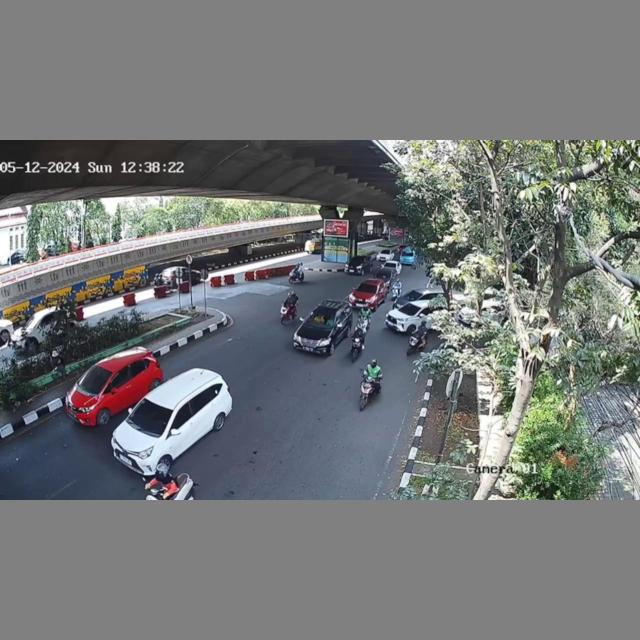windshield: (129, 400, 174, 436), (80, 366, 112, 396), (304, 310, 335, 329)
